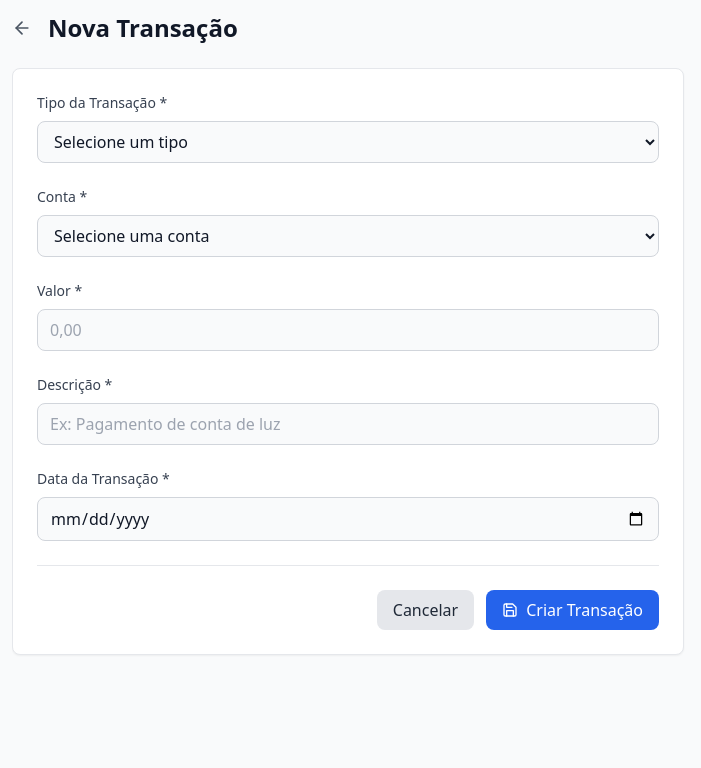
Test: TransactionForm › deve validar descrição com mínimo de caracteres
Expected: the button "Criar Transação" is shown, [486,590,659,630]
Preenche descrição com menos de 3 caracteres
Type "ab" into the field labelled "Descrição *".
click(348, 424); type("ab")  # box [37,403,659,445]
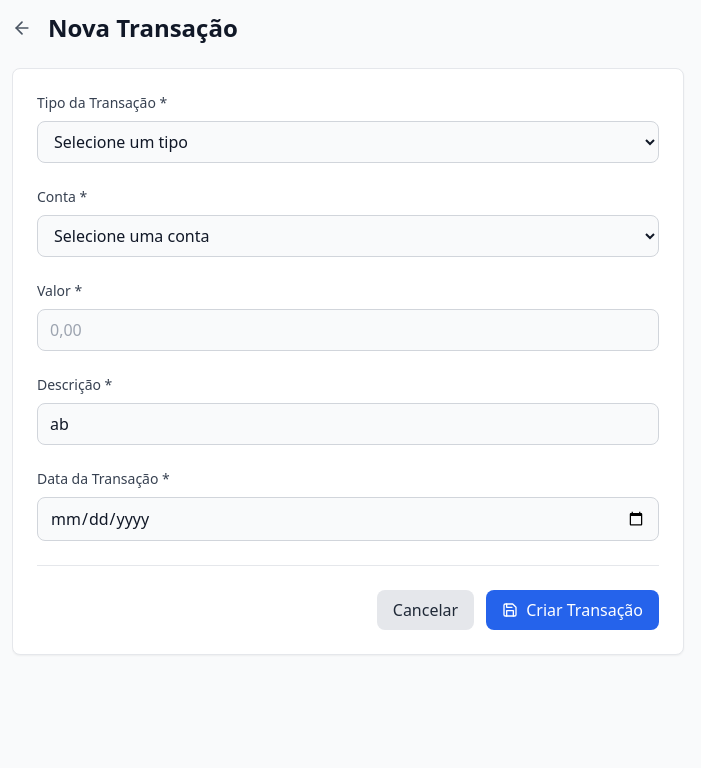
Tenta submeter
Click the button "Criar Transação".
click(573, 610)  # box [486,590,659,630]
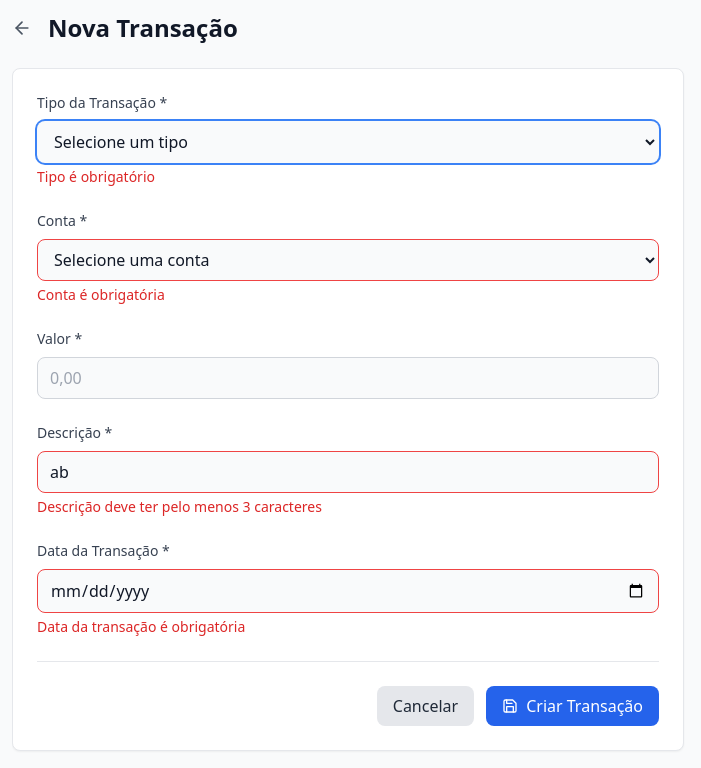
Result: the text "Descrição deve ter pelo menos 3 caracteres" is shown at [37,497,322,516]
